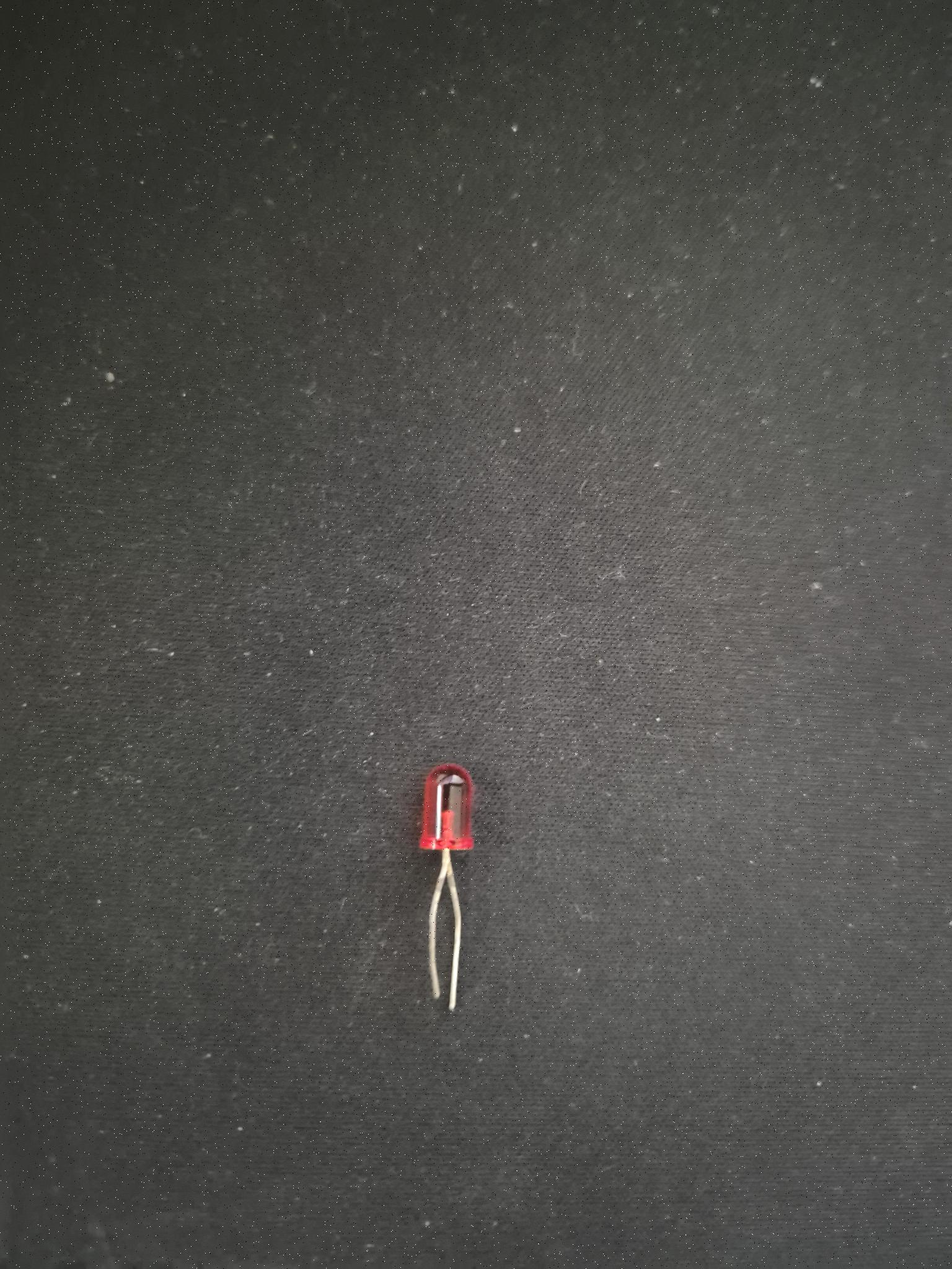led-diode: (406, 759, 499, 1025)
